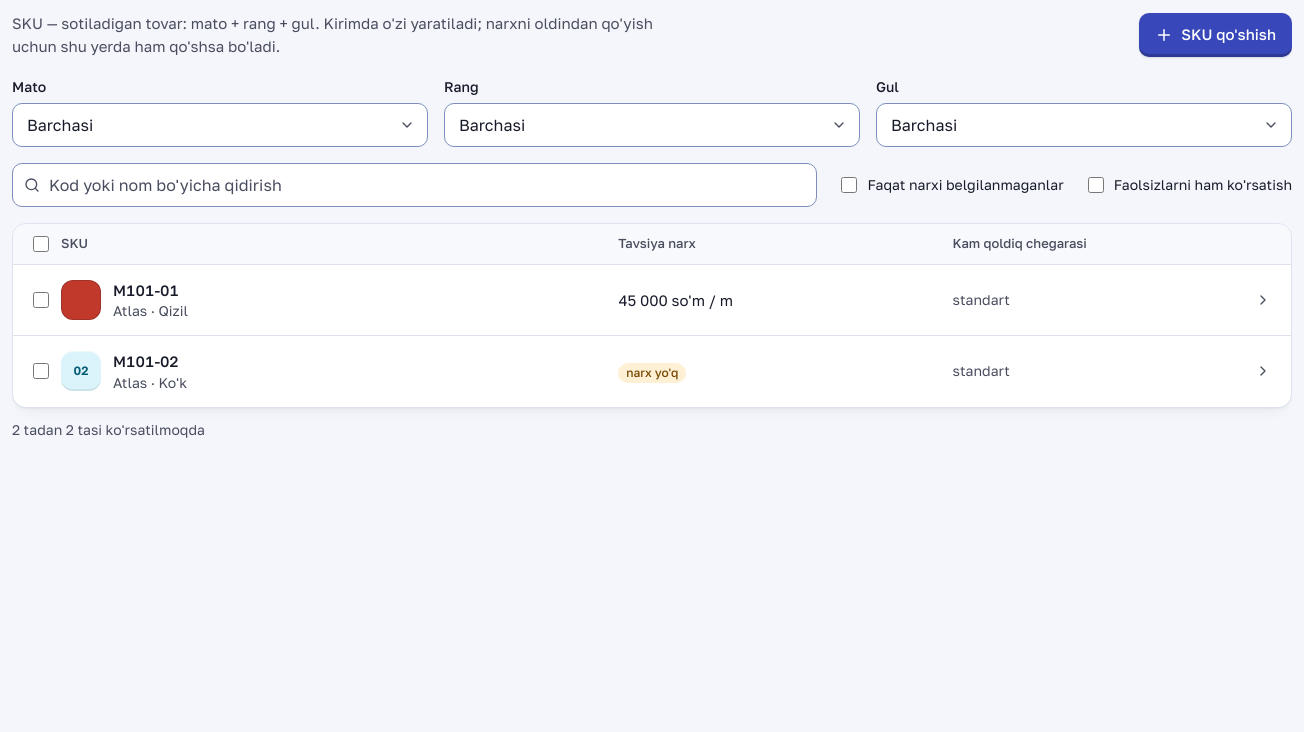
Scenario: SKU ro'yxati › server xatosini ommaviy narx panelida ko'rsatadi
Click the checkbox named "M101-02 ni tanlash". click: {"x": 41, "y": 371}
box: [33,363,49,379]
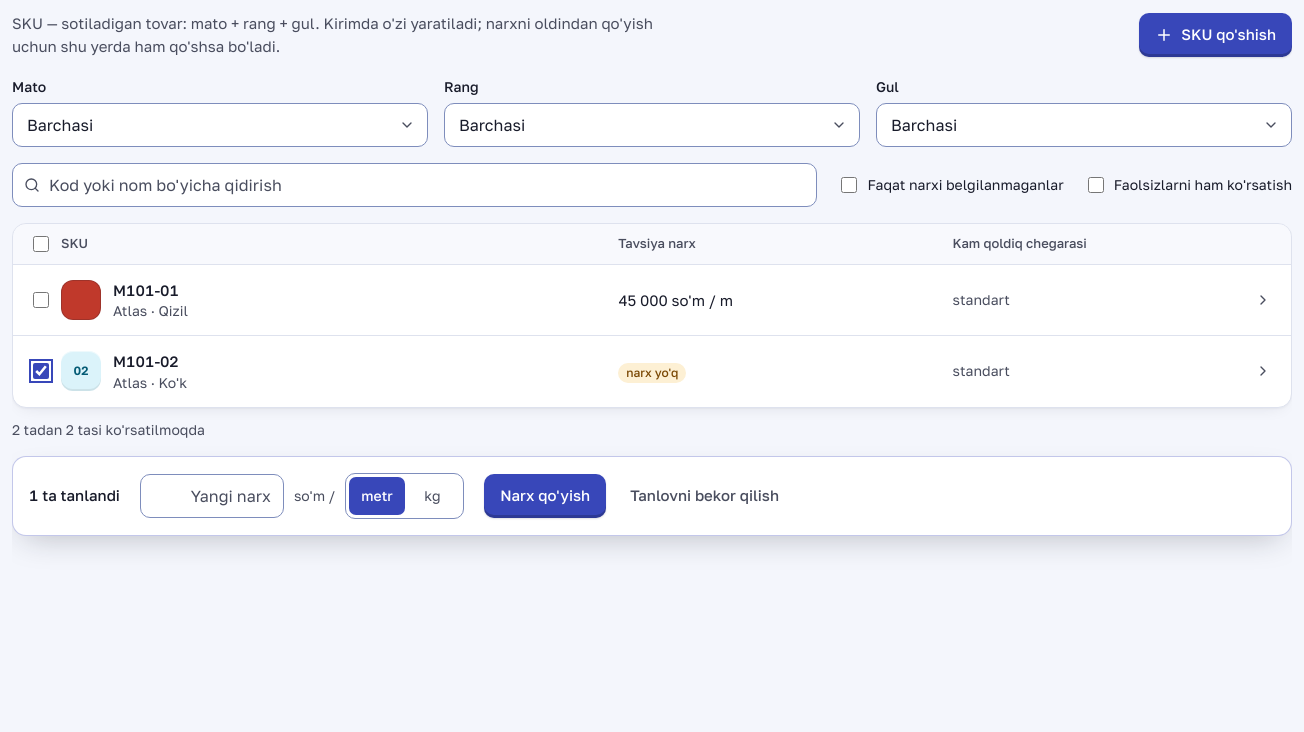
Type "1000" into the field labelled "Yangi narx". click: {"x": 212, "y": 496}
box: [140,474,284,518]
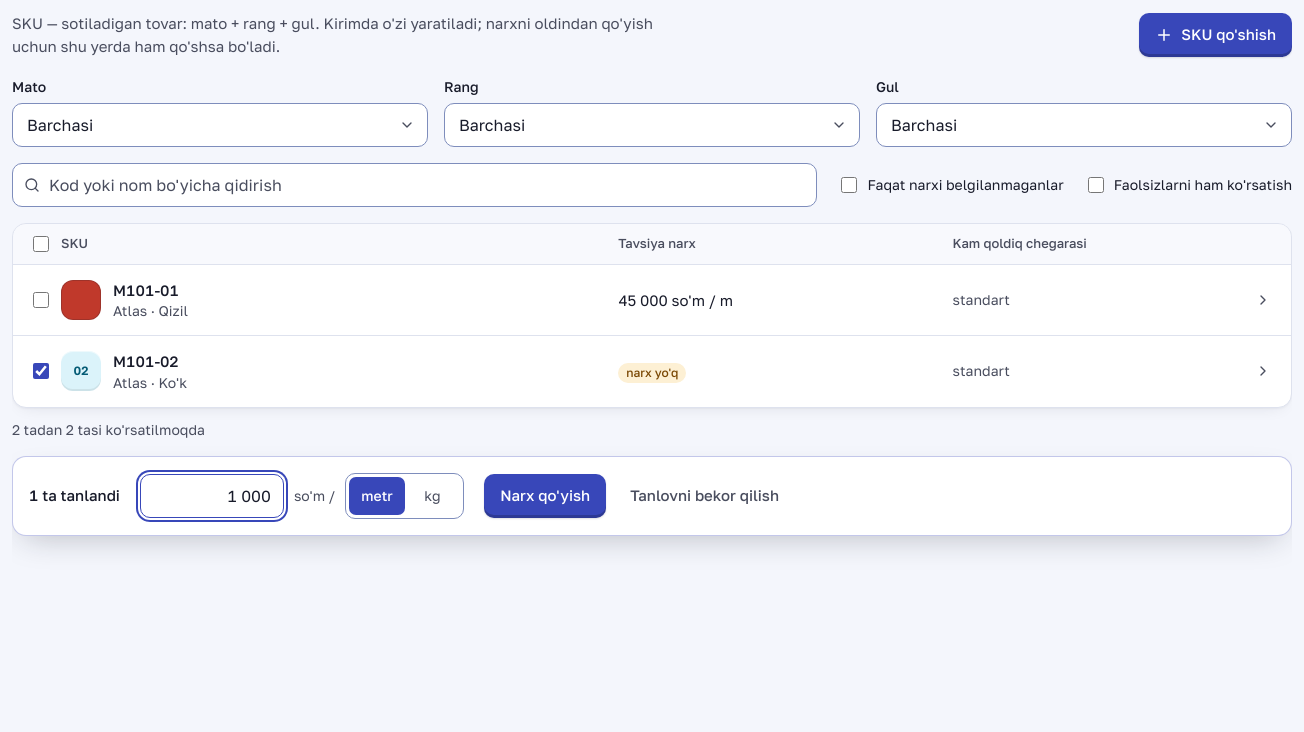
Click the button "Narx qo'yish". click: {"x": 545, "y": 496}
box: [484,474,606,518]
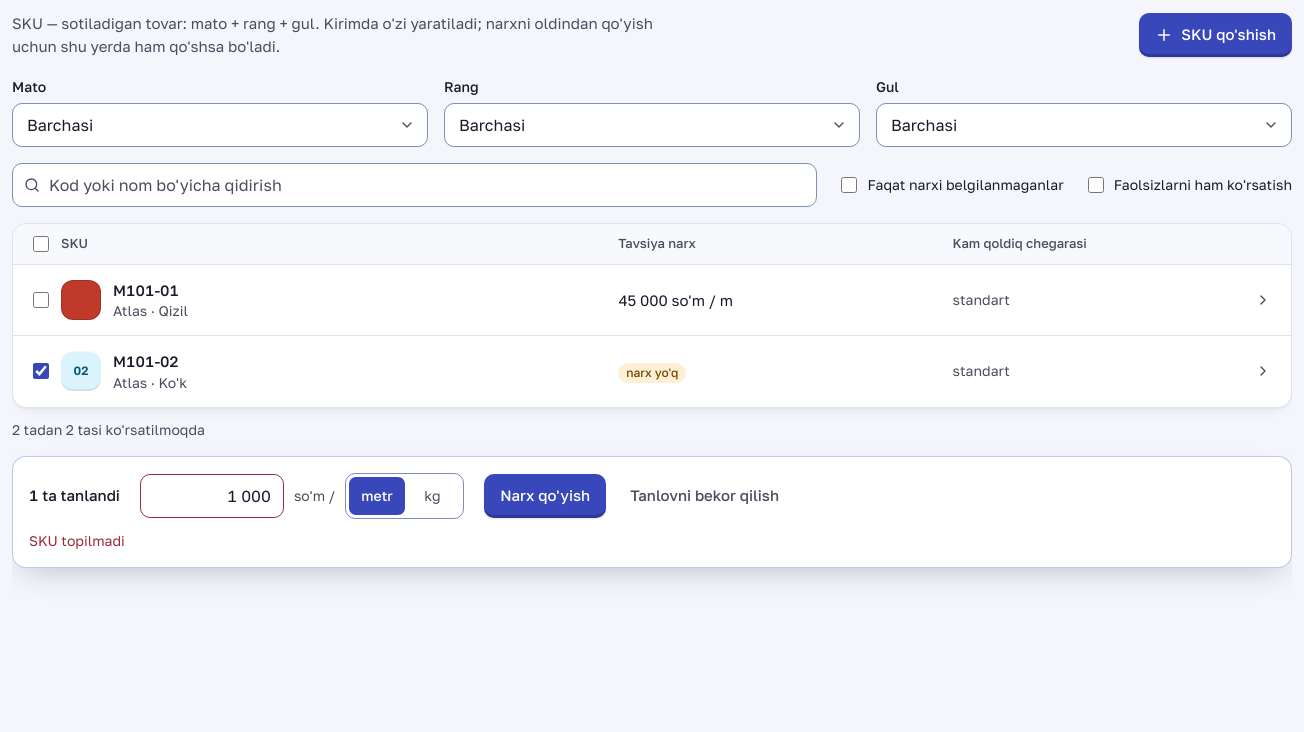
Now the text "1 ta tanlandi" is shown, box [29,484,120,507]
Now the text "SKU topilmadi" is shown, box [29,532,125,548]
